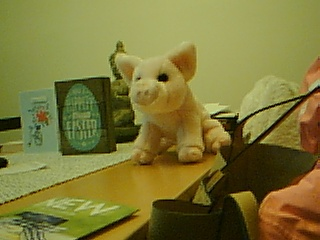piggy: (115, 40, 232, 166)
